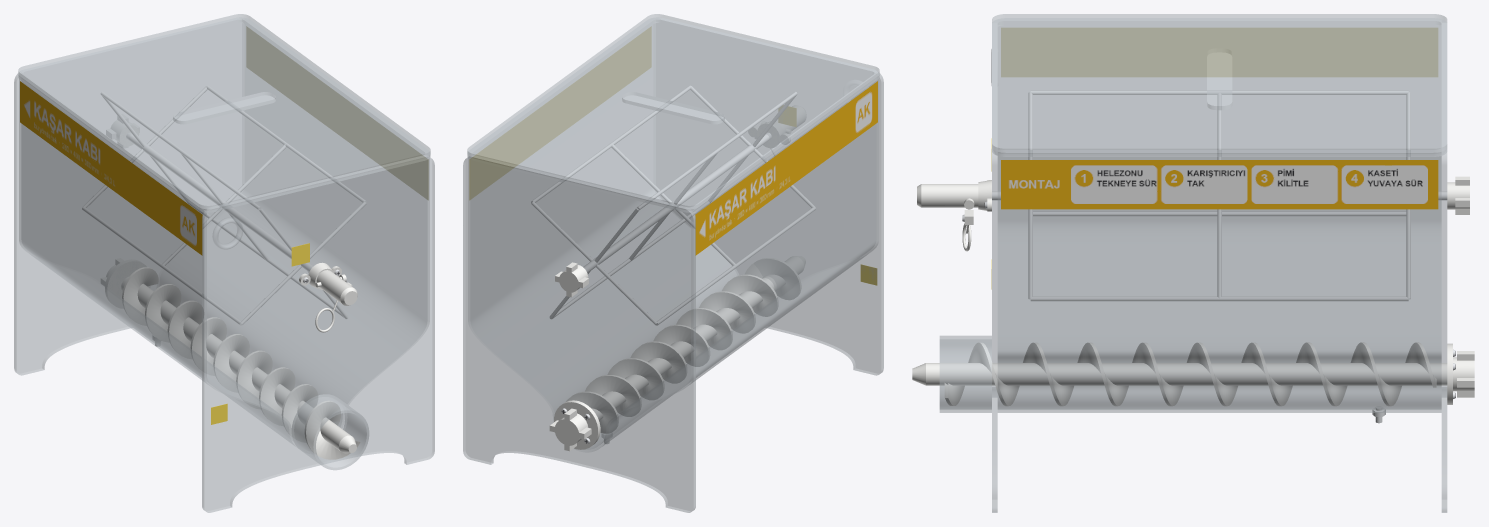
File: kasar_v3.glb
3 renders of one model, left to right at view 1: azimuth 30°, elevation 25°; view 2: azimuth 150°, elevation 25°; view 3: azimuth 270°, elevation 25°, orthographic. The views are drawn at different scales.
Parts seen in each view (by area): view 1: plaka_on, kapak, plaka_arka, govde_dis, govde_ic, helezon_kanat, bant_ad, bant_montaj_arka, flans, kar_tel_0, cikis_tupu, kar_tel_1 (+7 smaller); view 2: plaka_arka, kapak, plaka_on, govde_dis, govde_ic, helezon_kanat, bant_ad, bant_montaj_arka, flans, kar_tel_0, kar_tel_1, helezon_mil (+5 smaller); view 3: govde_dis, govde_ic, kapak, bant_montaj, bant_ad_arka, helezon_mil, helezon_kanat, kar_tel_1, flans, cikis_tupu, plaka_arka, plaka_on (+5 smaller).
Boxes of the visible parts, x1,y1,x2,y2 form: plaka_on: (202,156,434,512); kapak: (18,14,430,209); plaka_arka: (14,18,241,375); govde_dis: (19,76,429,445); govde_ic: (22,81,292,440); helezon_kanat: (122,267,360,459); bant_ad: (20,81,202,255); bant_montaj_arka: (247,27,428,199); flans: (18,17,430,212); kar_tel_0: (82,85,366,325); cikis_tupu: (291,394,369,470); kar_tel_1: (100,92,348,319); plaka_arka: (463,156,695,512); kapak: (467,14,879,209); plaka_on: (656,18,883,375); govde_dis: (468,76,878,445); govde_ic: (601,81,875,443); helezon_kanat: (566,258,800,433); bant_ad: (695,81,877,255); bant_montaj_arka: (469,27,650,199); flans: (467,17,879,212); kar_tel_0: (531,85,815,325); kar_tel_1: (549,92,797,319); helezon_mil: (591,256,803,420); govde_dis: (997,152,1441,412); govde_ic: (998,156,1441,409); kapak: (992,14,1447,152); bant_montaj: (1001,160,1438,209); bant_ad_arka: (1001,28,1437,76); helezon_mil: (926,363,1447,385); helezon_kanat: (944,342,1436,406); kar_tel_1: (1028,90,1410,301); flans: (992,18,1446,156); cikis_tupu: (939,335,991,412); plaka_arka: (1441,24,1447,512); plaka_on: (992,24,997,512).
Bounding box in the file's own units: 0.28 × 0.36 × 0.494.
8 materials, 2 textured.
